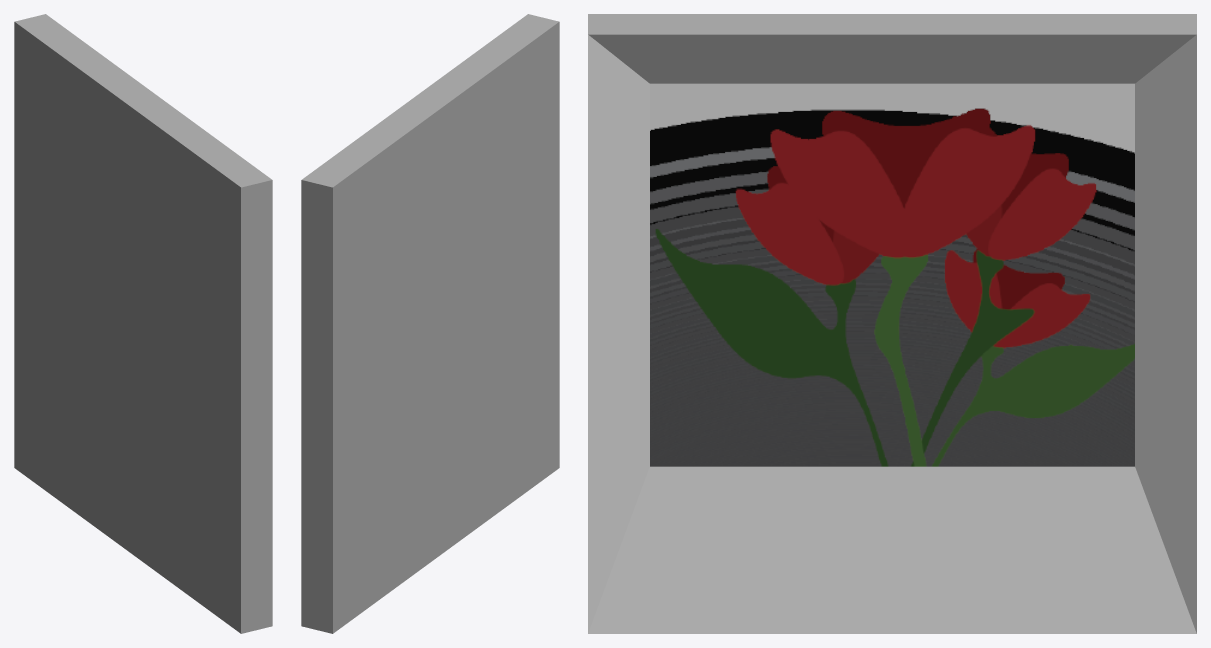
Rendered from ruza.glb.
The picture shows the model from 3 angles, left to right: view 1: azimuth 30°, elevation 25°; view 2: azimuth 150°, elevation 25°; view 3: azimuth 270°, elevation 25°; orthographic projection. The views are drawn at different scales.
Visible parts, largest first — view 1: Cube; view 2: Cube; view 3: Cube.
Part boxes in pixels (box(x1,y1,x2,y2)): Cube: box(14, 14, 272, 633); Cube: box(301, 14, 559, 633); Cube: box(588, 14, 1196, 633).
Size of the model in its own units: 0.0771 by 1.05 by 0.9652.
Materials: 3 (1 with a texture image).
